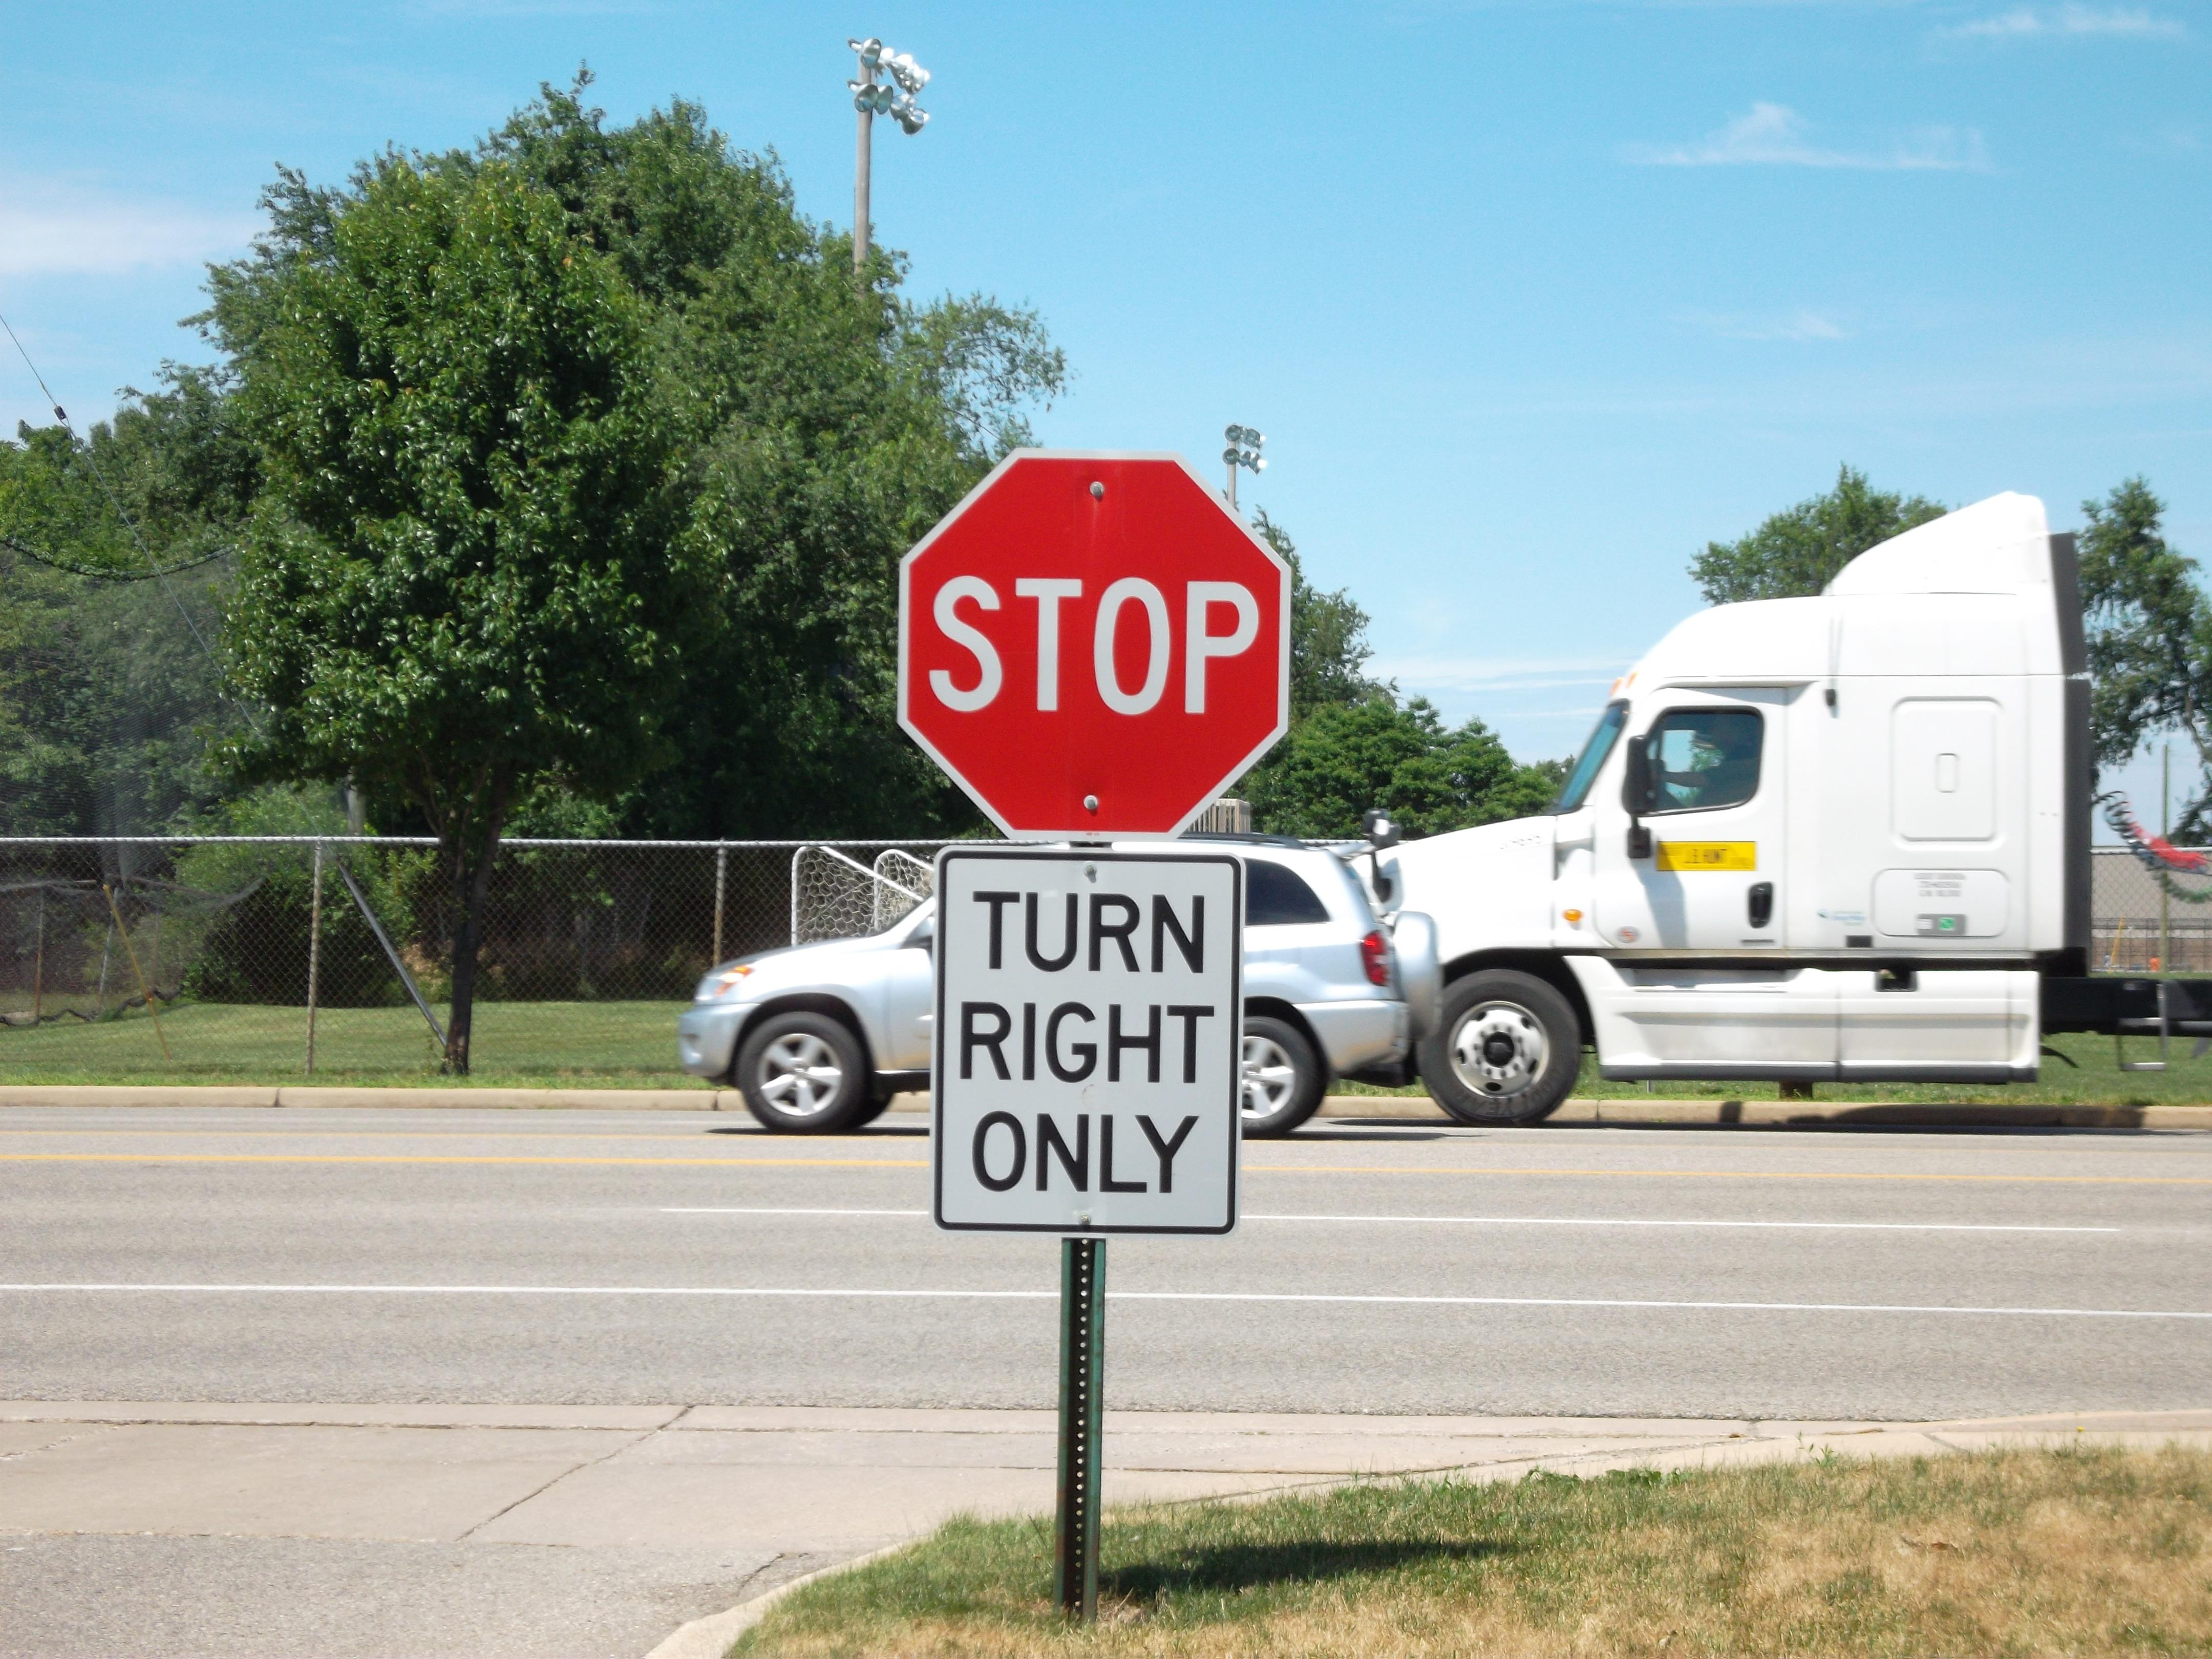regulatory: (888, 850, 1329, 1251)
stop: (885, 415, 1318, 838)
